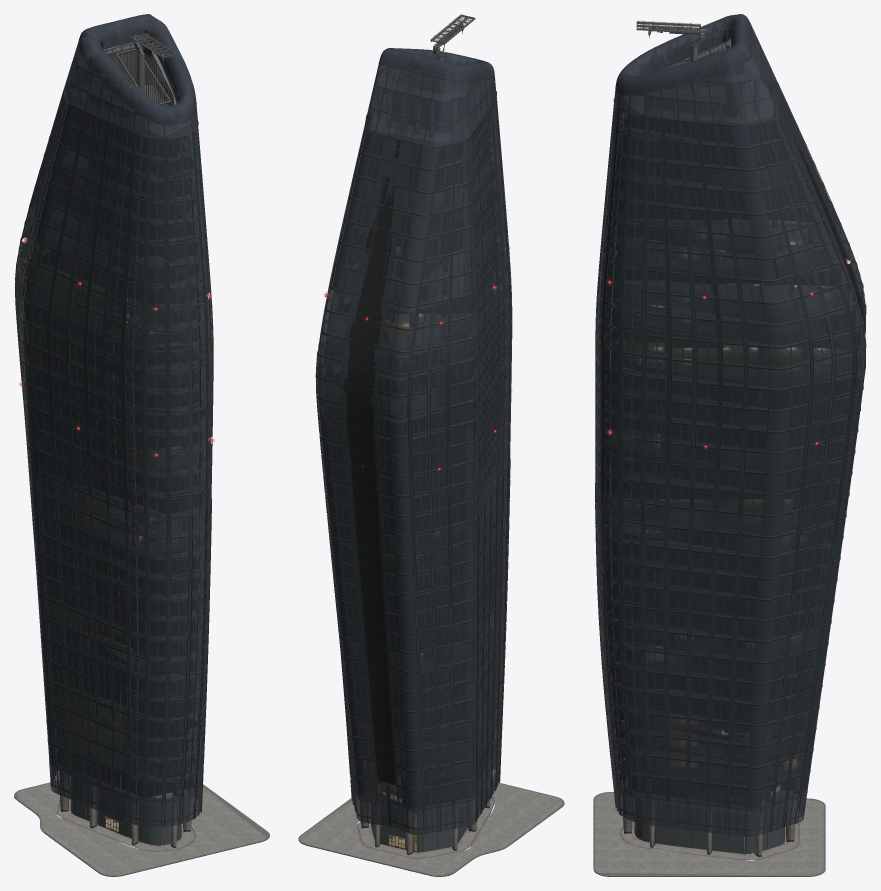
Rendered from sky2_o.glb.
The picture shows the model from 3 angles, left to right: view 1: azimuth 30°, elevation 25°; view 2: azimuth 150°, elevation 25°; view 3: azimuth 270°, elevation 25°; orthographic projection. The views are drawn at different scales.
Parts seen in each view (by area): view 1: Glass_Generic_Glass_Generic_0, Building_Facade_Building_Facade_0, Interior_Top_Interior_Top_0, Glass_Generic_More_Opaque_Glass_Generic_More_Opaque_0, Sidewalk_02_Sidewalk_02_0, Top_Piece_Top_Piece_0, Glass_Lobby_Glass_Lobby_0, Sidewalk_01_Sidewalk_01_0, Concrete_Pillar_Concrete_Pillar_0, Building_Maintenance_Unit_Building_Maintenance_Unit_0; view 2: Building_Facade_Building_Facade_0, Glass_Generic_Glass_Generic_0, Interior_Top_Interior_Top_0, Glass_Generic_More_Opaque_Glass_Generic_More_Opaque_0, Sidewalk_02_Sidewalk_02_0, Top_Piece_Top_Piece_0, Sidewalk_01_Sidewalk_01_0, Glass_Lobby_Glass_Lobby_0, Concrete_Pillar_Concrete_Pillar_0, Building_Maintenance_Unit_Building_Maintenance_Unit_0; view 3: Glass_Generic_Glass_Generic_0, Building_Facade_Building_Facade_0, Interior_Top_Interior_Top_0, Glass_Generic_More_Opaque_Glass_Generic_More_Opaque_0, Sidewalk_02_Sidewalk_02_0, Top_Piece_Top_Piece_0, Glass_Lobby_Glass_Lobby_0, Sidewalk_01_Sidewalk_01_0, Concrete_Pillar_Concrete_Pillar_0, Building_Maintenance_Unit_Building_Maintenance_Unit_0, Furniture_Furniture_0.
Part boxes in pixels (x1,y1,x2,y2): Glass_Generic_Glass_Generic_0: [16, 88, 213, 827]; Building_Facade_Building_Facade_0: [15, 15, 213, 845]; Interior_Top_Interior_Top_0: [22, 110, 205, 797]; Glass_Generic_More_Opaque_Glass_Generic_More_Opaque_0: [64, 14, 197, 137]; Sidewalk_02_Sidewalk_02_0: [17, 779, 266, 875]; Top_Piece_Top_Piece_0: [71, 42, 195, 135]; Glass_Lobby_Glass_Lobby_0: [71, 777, 181, 844]; Sidewalk_01_Sidewalk_01_0: [14, 780, 269, 876]; Concrete_Pillar_Concrete_Pillar_0: [59, 772, 191, 848]; Building_Maintenance_Unit_Building_Maintenance_Unit_0: [130, 33, 176, 93]; Building_Facade_Building_Facade_0: [315, 48, 512, 852]; Glass_Generic_Glass_Generic_0: [316, 100, 511, 835]; Interior_Top_Interior_Top_0: [323, 112, 506, 805]; Glass_Generic_More_Opaque_Glass_Generic_More_Opaque_0: [364, 48, 496, 147]; Sidewalk_02_Sidewalk_02_0: [300, 783, 562, 875]; Top_Piece_Top_Piece_0: [371, 71, 494, 142]; Sidewalk_01_Sidewalk_01_0: [298, 782, 564, 876]; Glass_Lobby_Glass_Lobby_0: [371, 791, 480, 851]; Concrete_Pillar_Concrete_Pillar_0: [360, 775, 490, 855]; Building_Maintenance_Unit_Building_Maintenance_Unit_0: [430, 14, 475, 61]; Glass_Generic_Glass_Generic_0: [595, 85, 865, 836]; Building_Facade_Building_Facade_0: [595, 14, 866, 854]; Interior_Top_Interior_Top_0: [604, 110, 861, 806]; Glass_Generic_More_Opaque_Glass_Generic_More_Opaque_0: [614, 14, 779, 125]; Sidewalk_02_Sidewalk_02_0: [595, 792, 823, 875]; Top_Piece_Top_Piece_0: [624, 38, 772, 122]; Glass_Lobby_Glass_Lobby_0: [634, 800, 784, 853]; Sidewalk_01_Sidewalk_01_0: [593, 792, 825, 876]; Concrete_Pillar_Concrete_Pillar_0: [623, 795, 795, 857]; Building_Maintenance_Unit_Building_Maintenance_Unit_0: [636, 21, 707, 92]; Furniture_Furniture_0: [624, 305, 806, 746].
Size of what is drawn, in the model's own units: 37.24 by 167 by 50.88.
Materials: 19 (17 with a texture image).
